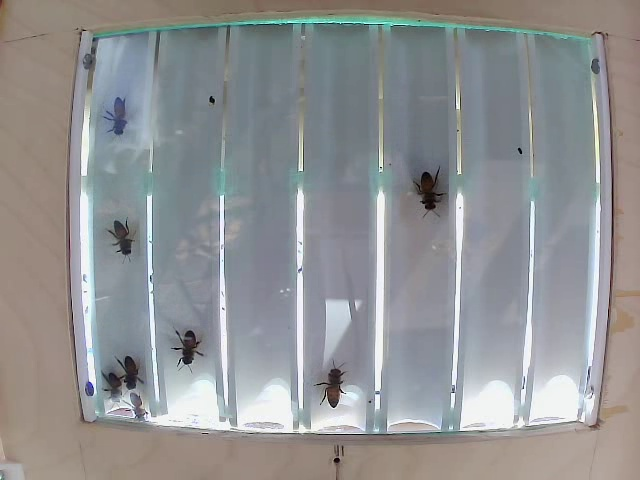bee: (312, 365, 363, 419), (404, 153, 445, 214), (103, 94, 150, 147), (162, 328, 202, 370), (110, 347, 146, 389), (102, 208, 125, 260), (93, 369, 123, 400)
